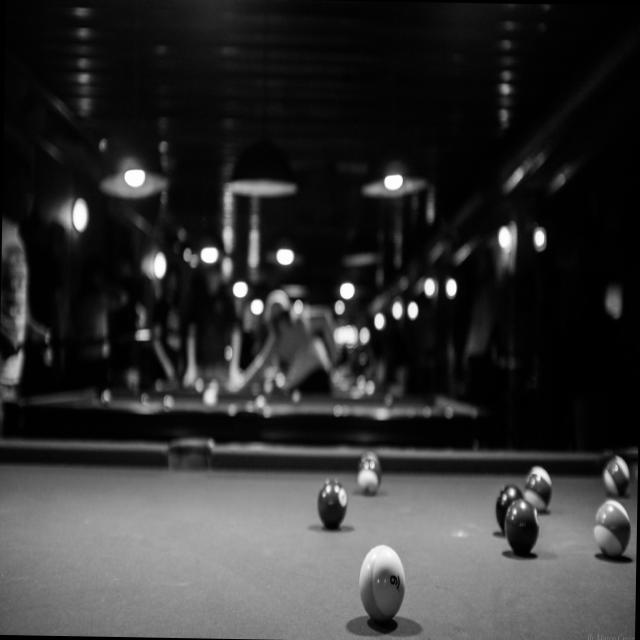Ball: (358, 543, 408, 627), (592, 498, 628, 560), (506, 498, 538, 558), (317, 478, 347, 528), (494, 488, 521, 533), (524, 468, 551, 513), (356, 455, 382, 496), (604, 456, 628, 498)
